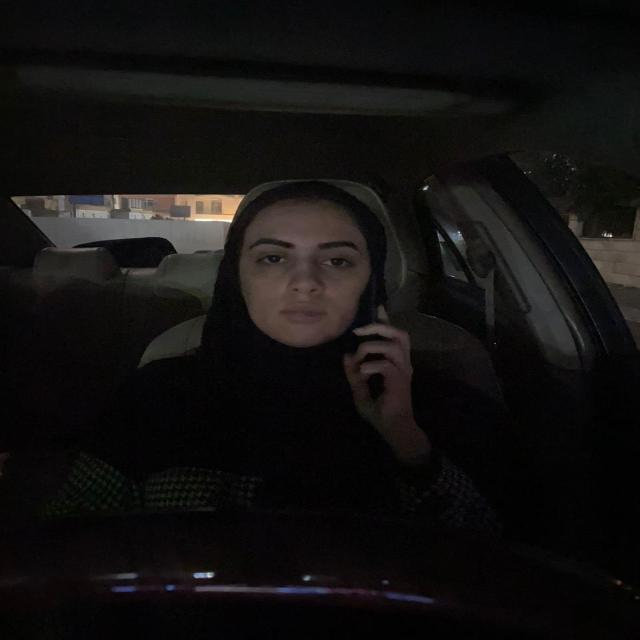phone: (361, 270, 391, 400)
